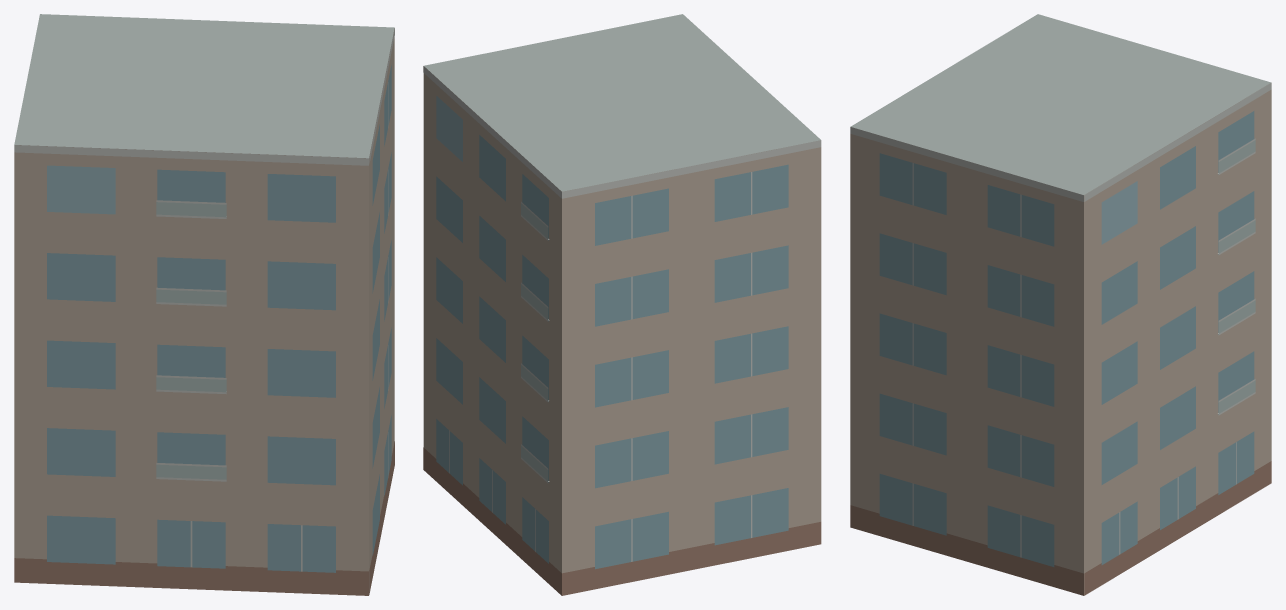
File: survey-upis-32925187.glb
3 views of the same model, side by side, from view 1: azimuth 30°, elevation 25°; view 2: azimuth 150°, elevation 25°; view 3: azimuth 270°, elevation 25° (orthographic). The views are drawn at different scales.
Parts seen in each view (by area): view 1: survey-upis-32925187.tmp; view 2: survey-upis-32925187.tmp; view 3: survey-upis-32925187.tmp.
Part boxes in pixels (x1,y1,x2,y2): survey-upis-32925187.tmp: (14,14,394,595); survey-upis-32925187.tmp: (423,14,821,595); survey-upis-32925187.tmp: (850,14,1271,595).
Bounding box in the file's own units: 13.69 × 14.1 × 13.44.
